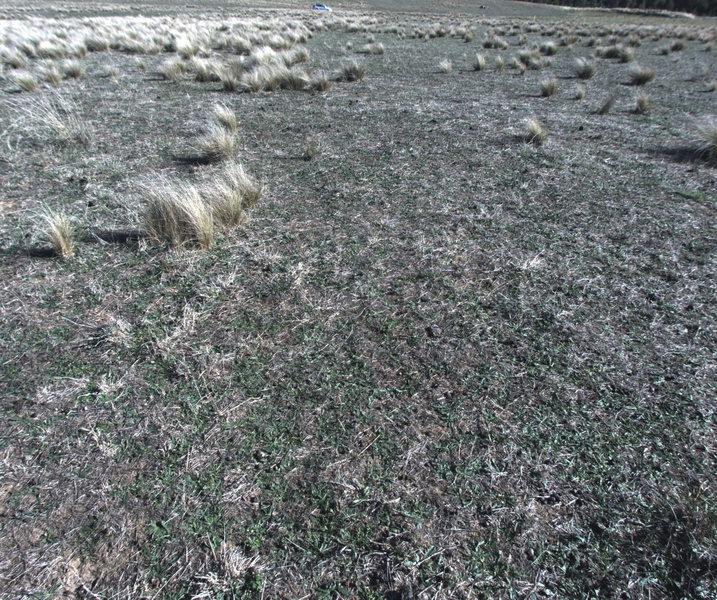st: (142, 169, 209, 248), (23, 205, 84, 264), (207, 167, 256, 226), (694, 116, 717, 169), (201, 130, 239, 162), (519, 114, 549, 147), (215, 66, 242, 96), (341, 56, 367, 87), (597, 83, 619, 117), (194, 53, 216, 87), (632, 93, 658, 121), (627, 64, 657, 88), (214, 103, 237, 134), (157, 59, 183, 86), (303, 69, 329, 93), (174, 36, 196, 63), (10, 75, 39, 95), (519, 51, 546, 71), (574, 56, 595, 81), (43, 57, 60, 87), (64, 57, 85, 81), (539, 77, 556, 104), (620, 48, 638, 70), (436, 56, 456, 75), (596, 41, 621, 55), (510, 50, 523, 75), (132, 53, 145, 78), (470, 51, 488, 69), (496, 54, 510, 72), (372, 39, 386, 57), (574, 84, 584, 103), (671, 40, 688, 51), (660, 43, 673, 57), (361, 30, 374, 43)
